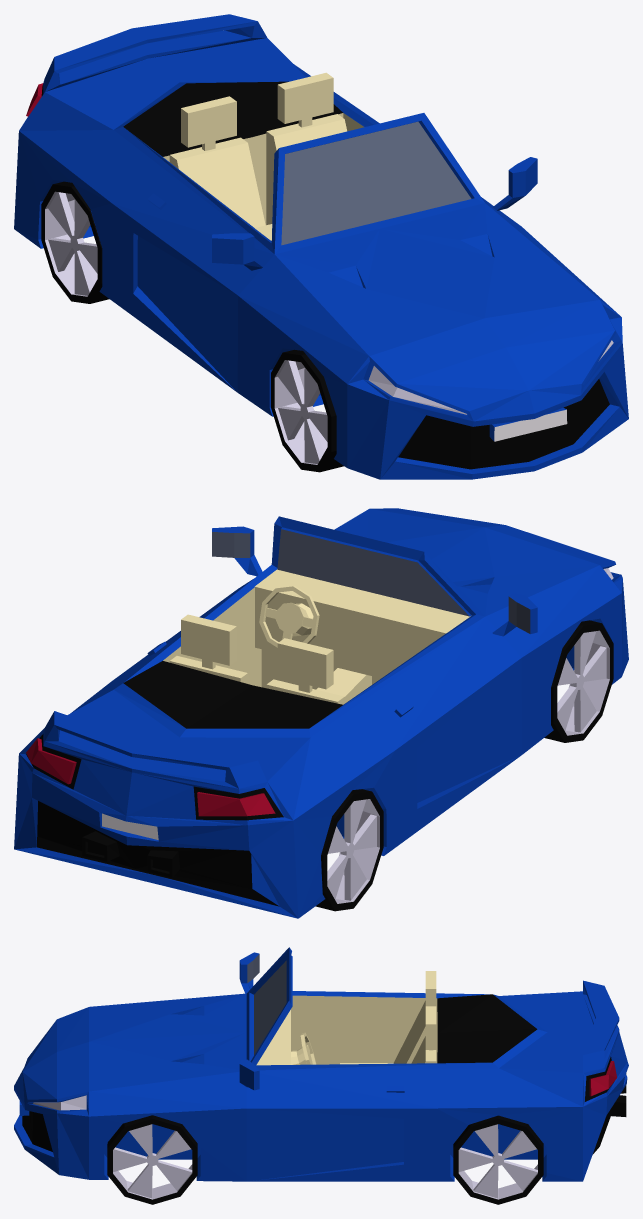
The model's file is supercar.glb.
The picture shows the model from 3 angles, top to bottom: view 1: azimuth 30°, elevation 25°; view 2: azimuth 150°, elevation 25°; view 3: azimuth 270°, elevation 25°; orthographic projection. The views are drawn at different scales.
Visible parts, largest first — view 1: Roadster_body blue_0, Roadster_windows_0, Roadster_body black_0, Roadster_body beige_0, Roadster wheel front right_wheels_0, Roadster wheel rear right_wheels_0, Roadster wheel front right_tires_0, Roadster wheel rear right_tires_0, Roadster_body white_0, Roadster_headlights_0; view 2: Roadster_body blue_0, Roadster_body beige_0, Roadster_body black_0, Roadster_windows_0, Roadster wheel rear right_wheels_0, Roadster wheel front right_wheels_0, Roadster_rear lights_0, Roadster wheel front right_tires_0, Roadster wheel rear right_tires_0, Roadster_body white_0; view 3: Roadster_body blue_0, Roadster_body beige_0, Roadster_body black_0, Roadster wheel rear left_wheels_0, Roadster wheel front left_wheels_0, Roadster_windows_0, Roadster wheel front left_tires_0, Roadster wheel rear left_tires_0, Roadster_rear lights_0, Roadster_headlights_0.
Boxes of the visible parts, x1,y1,x2,y2 form: Roadster_body blue_0: [14, 14, 628, 479]; Roadster_windows_0: [281, 121, 471, 245]; Roadster_body black_0: [41, 81, 609, 469]; Roadster_body beige_0: [163, 72, 364, 240]; Roadster wheel front right_wheels_0: [274, 360, 327, 464]; Roadster wheel rear right_wheels_0: [45, 191, 97, 296]; Roadster wheel front right_tires_0: [271, 349, 343, 472]; Roadster wheel rear right_tires_0: [41, 181, 109, 303]; Roadster_body white_0: [494, 409, 567, 441]; Roadster_headlights_0: [368, 340, 613, 414]; Roadster_body blue_0: [14, 508, 628, 918]; Roadster_body beige_0: [163, 569, 470, 704]; Roadster_body black_0: [26, 661, 342, 906]; Roadster_windows_0: [212, 529, 530, 633]; Roadster wheel rear right_wheels_0: [327, 799, 379, 903]; Roadster wheel front right_wheels_0: [557, 630, 609, 735]; Roadster_rear lights_0: [26, 738, 275, 816]; Roadster wheel front right_tires_0: [544, 620, 613, 742]; Roadster wheel rear right_tires_0: [315, 789, 383, 911]; Roadster_body white_0: [102, 813, 158, 839]; Roadster_body blue_0: [14, 947, 628, 1181]; Roadster_body beige_0: [256, 971, 437, 1065]; Roadster_body black_0: [22, 994, 626, 1154]; Roadster wheel rear left_wheels_0: [458, 1124, 537, 1199]; Roadster wheel front left_wheels_0: [113, 1124, 192, 1199]; Roadster_windows_0: [247, 954, 286, 1055]; Roadster wheel front left_tires_0: [107, 1115, 197, 1204]; Roadster wheel rear left_tires_0: [453, 1115, 543, 1204]; Roadster_rear lights_0: [589, 1061, 616, 1096]; Roadster_headlights_0: [33, 1095, 86, 1110].
Size of the model in its own units: 2.63 by 1.84 by 5.73.
